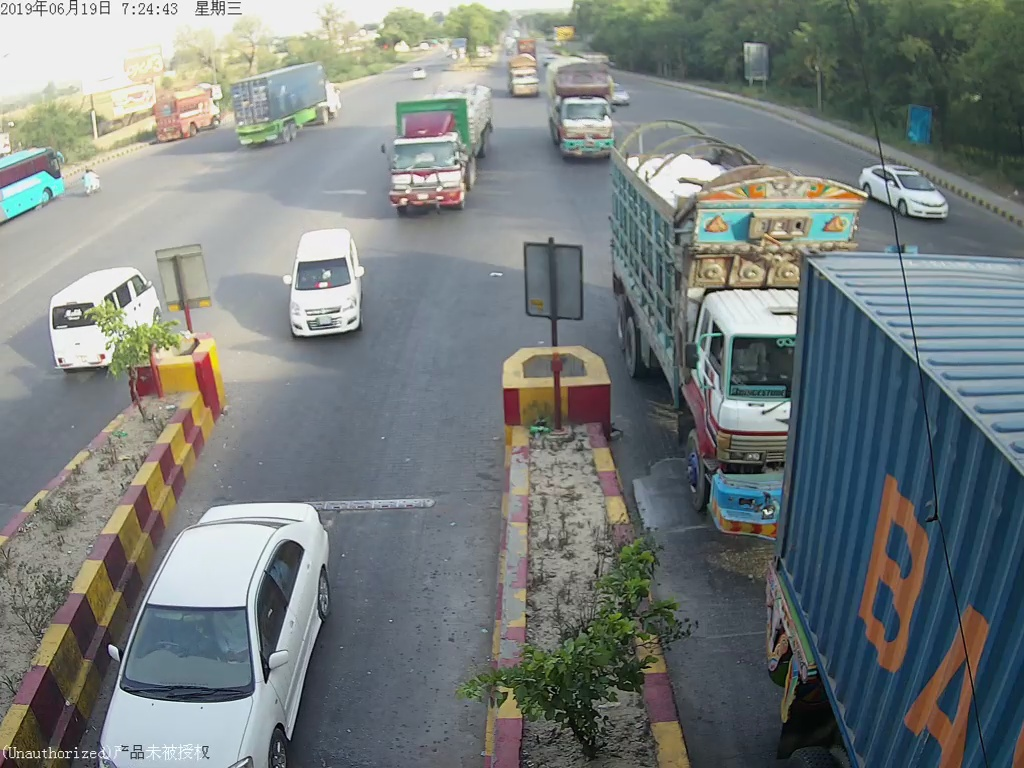Cat-1: (103, 500, 341, 768), (279, 219, 374, 345)
Cat-4: (612, 124, 784, 533), (546, 60, 610, 162)
Cat-5: (381, 88, 496, 221)
